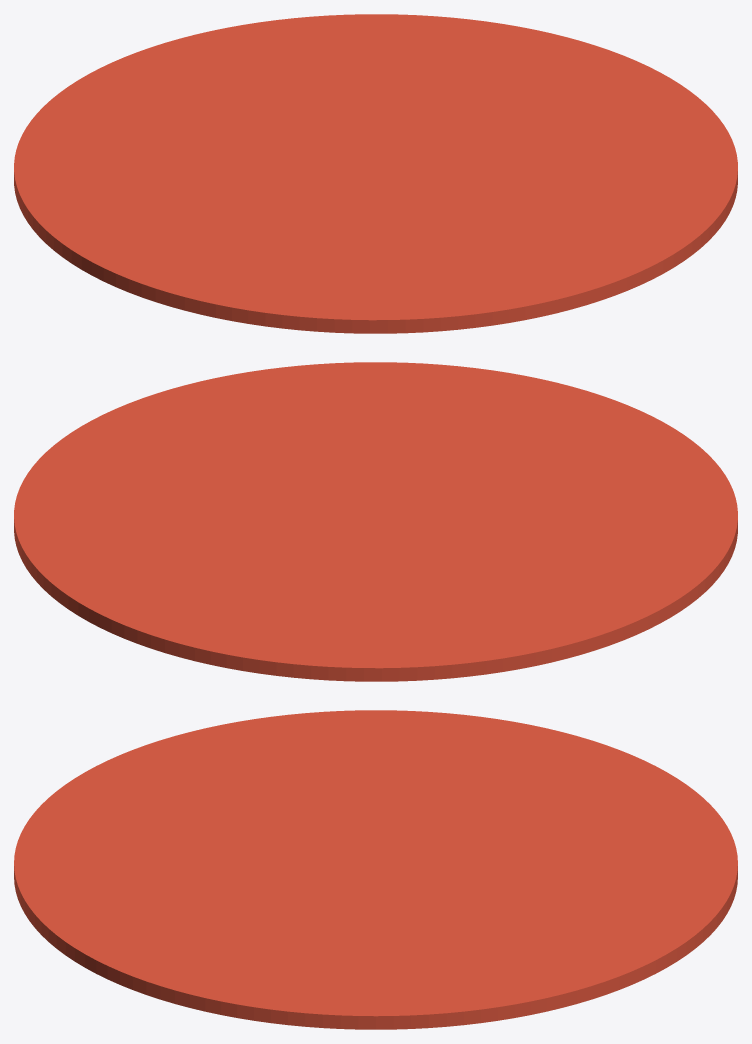
Rendered from baseBig.glb.
3 views of the same model, one above another, from view 1: azimuth 30°, elevation 25°; view 2: azimuth 150°, elevation 25°; view 3: azimuth 270°, elevation 25° (orthographic).
Visible parts, largest first — view 1: Cylinder.001; view 2: Cylinder.001; view 3: Cylinder.001.
Part boxes in pixels (x1,y1,x2,y2): Cylinder.001: (14, 14, 737, 333); Cylinder.001: (14, 362, 737, 681); Cylinder.001: (14, 710, 737, 1029).
Size of what is drawn, in the model's own units: 14.48 by 0.3 by 14.48.
